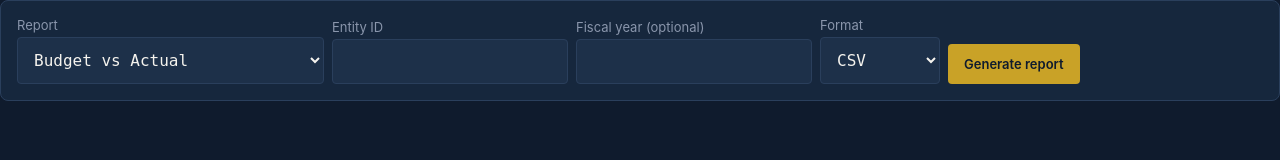
Scenario: TriggerReportGenerationForm › shows the returned error message on failure
The image size is (1280, 160).
In the field labelled "Entity ID": (450, 62) [332,39,568,84], type "bad-id"
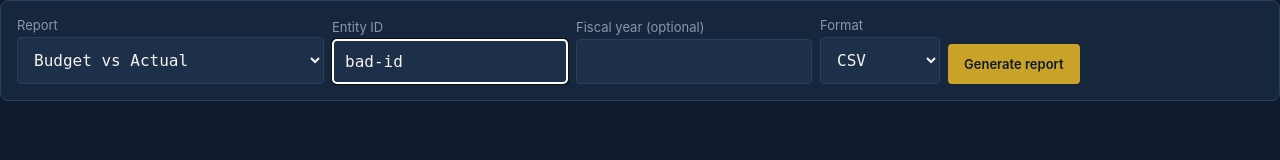
Click the button "Generate report": (1014, 64) [948,44,1080,84]
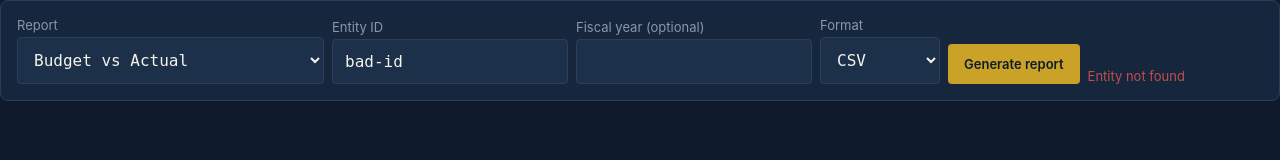
Now the text "Entity not found" is shown, box [1088,68,1185,84]
